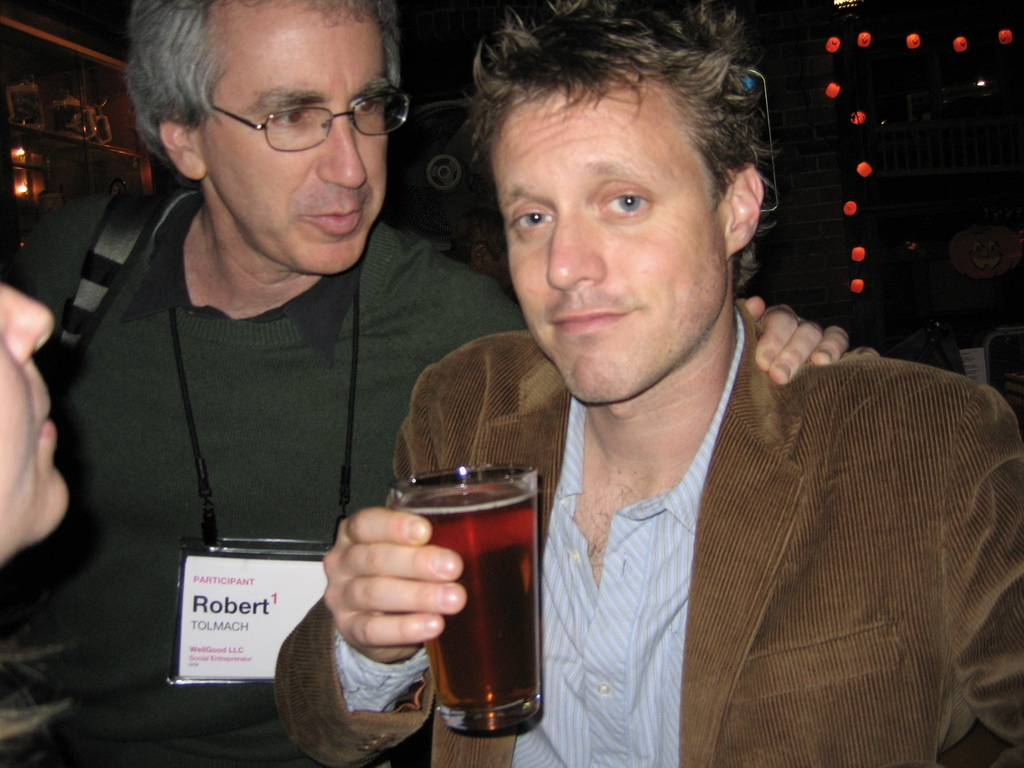Beer: (410, 474, 542, 711)
